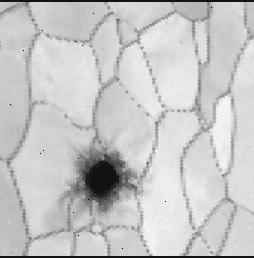good_void: (44, 136, 144, 229)
